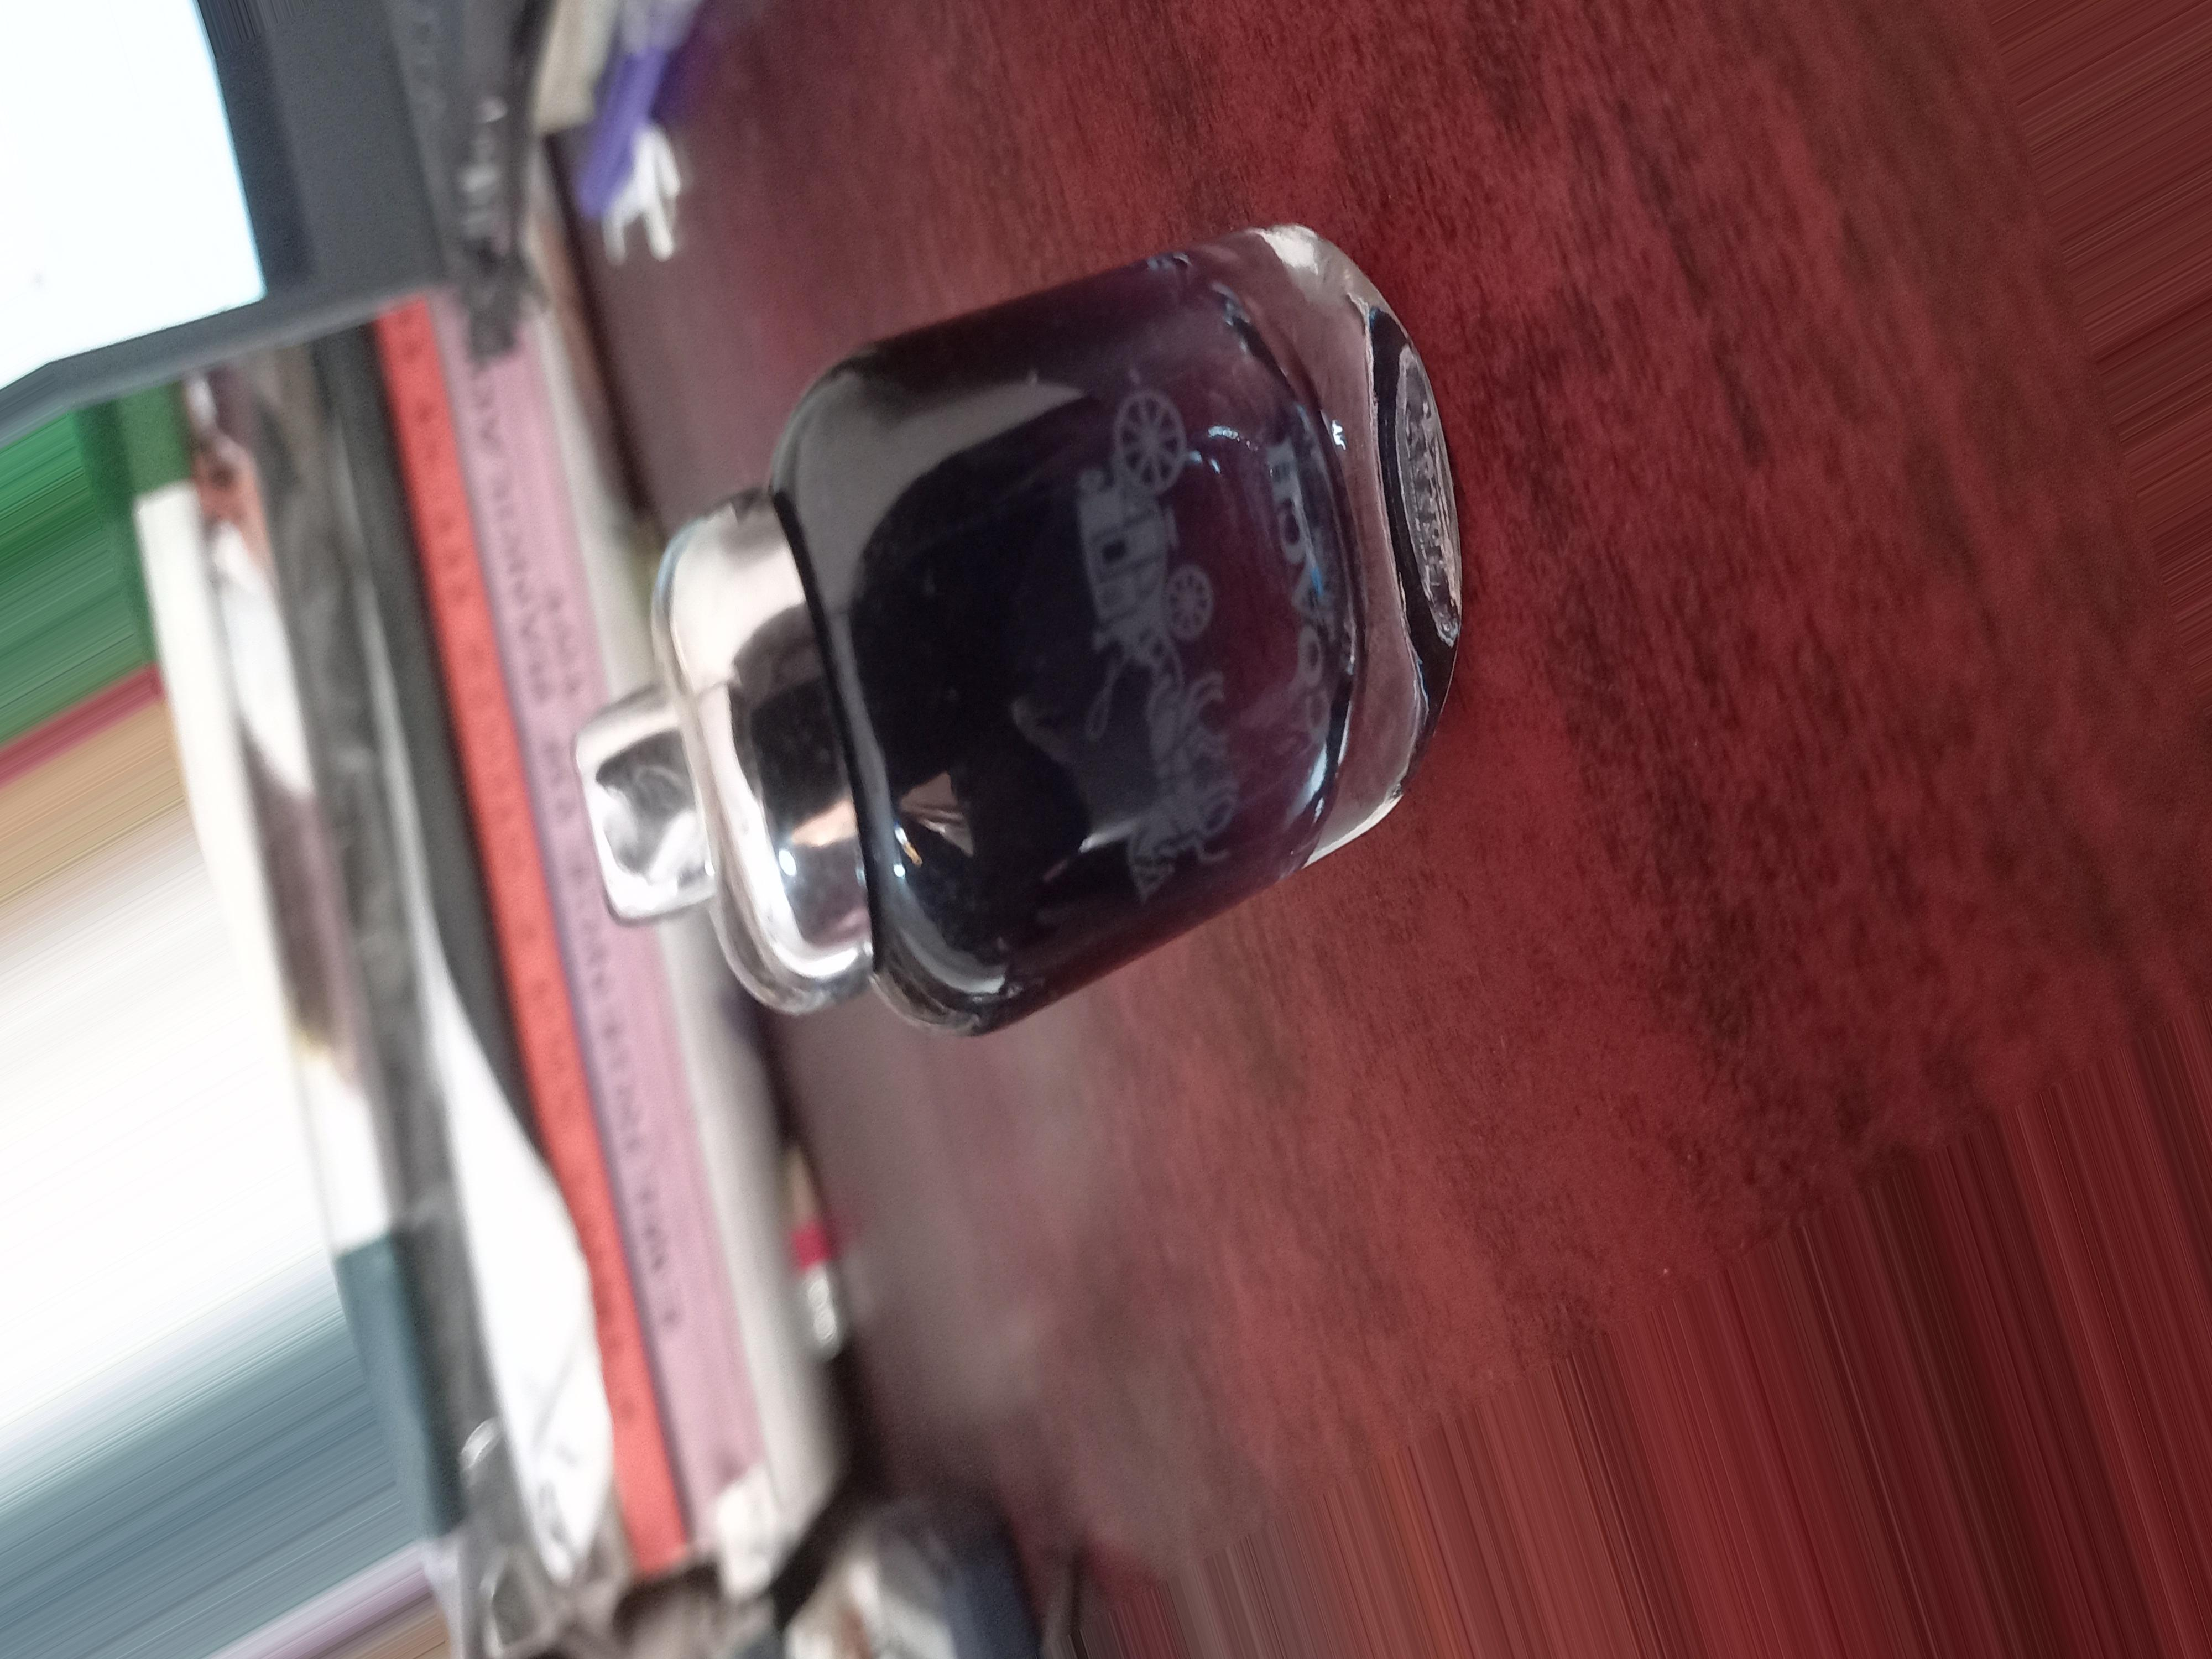perfume: (587, 225, 1470, 1021)
